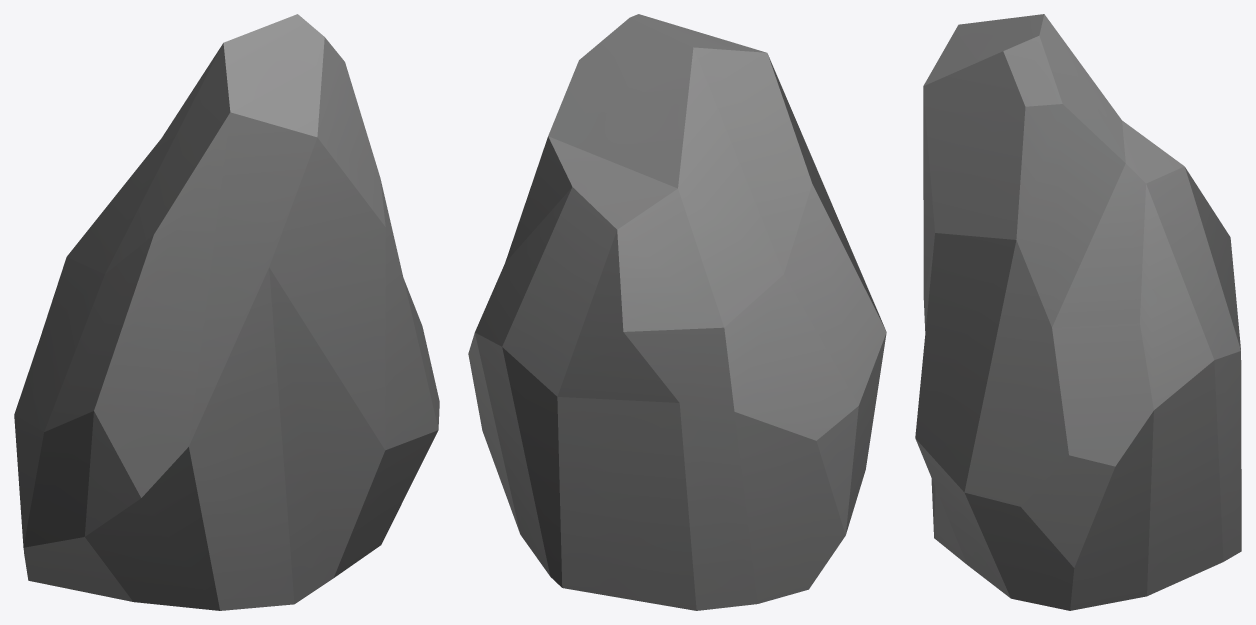
The model's file is Rock006.fbx.
3 views of the same model, side by side, from view 1: azimuth 30°, elevation 25°; view 2: azimuth 150°, elevation 25°; view 3: azimuth 270°, elevation 25° (orthographic). The views are drawn at different scales.
Visible parts, largest first — view 1: Cube.037; view 2: Cube.037; view 3: Cube.037.
Boxes of the visible parts, x1=… form: Cube.037: x1=14, y1=14, x2=439, y2=610; Cube.037: x1=468, y1=14, x2=886, y2=610; Cube.037: x1=915, y1=14, x2=1241, y2=610.
Bounding box in the file's own units: 491 × 635 × 355.
